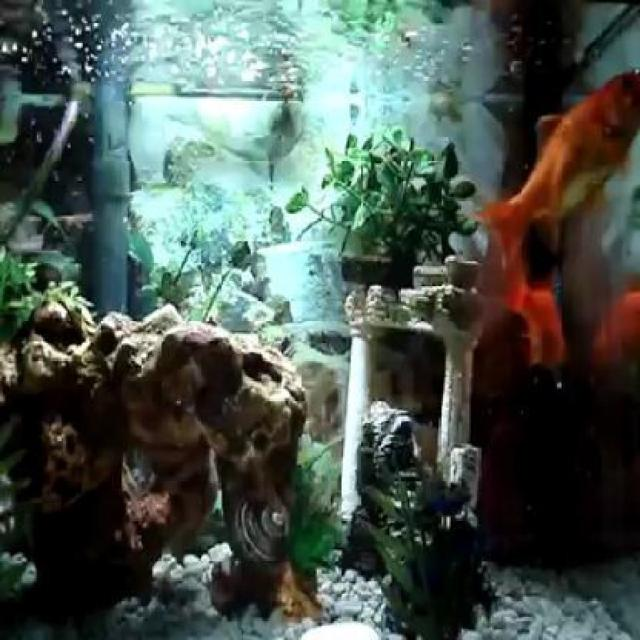GoldFish: (480, 73, 638, 267)
